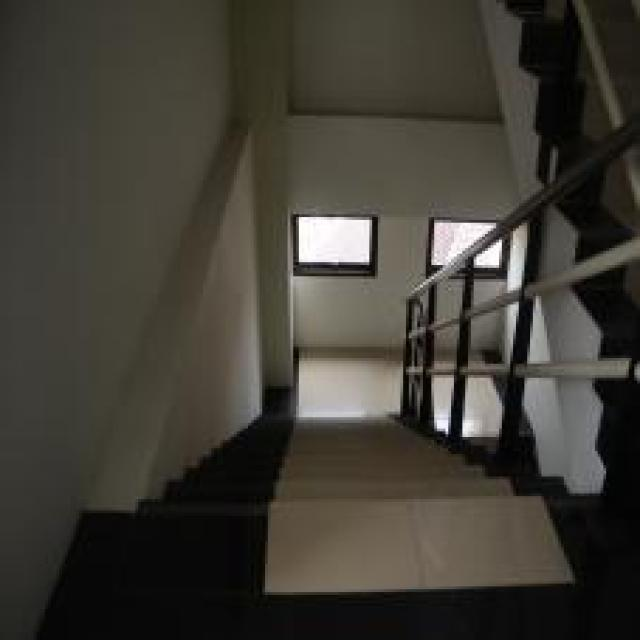downstair: (185, 430, 526, 638)
